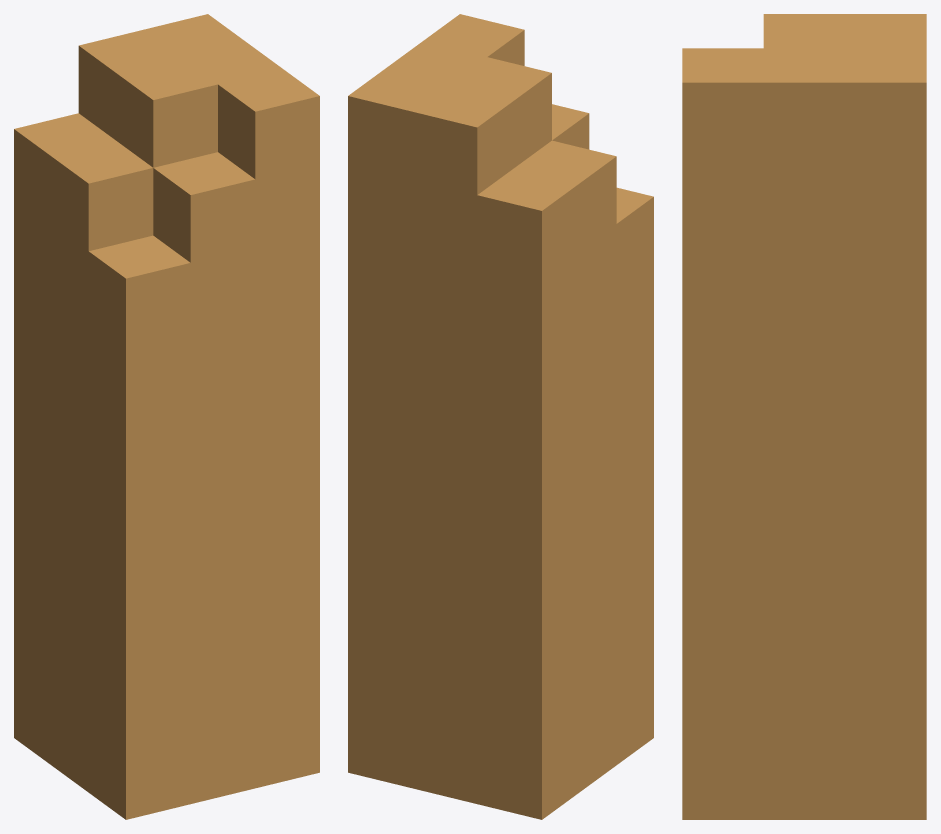
The model's file is lion__leg_bl.glb.
3 views of the same model, side by side, from view 1: azimuth 30°, elevation 25°; view 2: azimuth 150°, elevation 25°; view 3: azimuth 270°, elevation 25° (orthographic). The views are drawn at different scales.
Parts seen in each view (by area): view 1: lion__leg_bl; view 2: lion__leg_bl; view 3: lion__leg_bl.
Part boxes in pixels (<box>): lion__leg_bl: <box>14,14,319,819</box>; lion__leg_bl: <box>348,14,653,819</box>; lion__leg_bl: <box>682,14,926,819</box>.
Bounding box in the file's own units: 0.3 × 1 × 0.3.
Materials: 1 (1 with a texture image).
